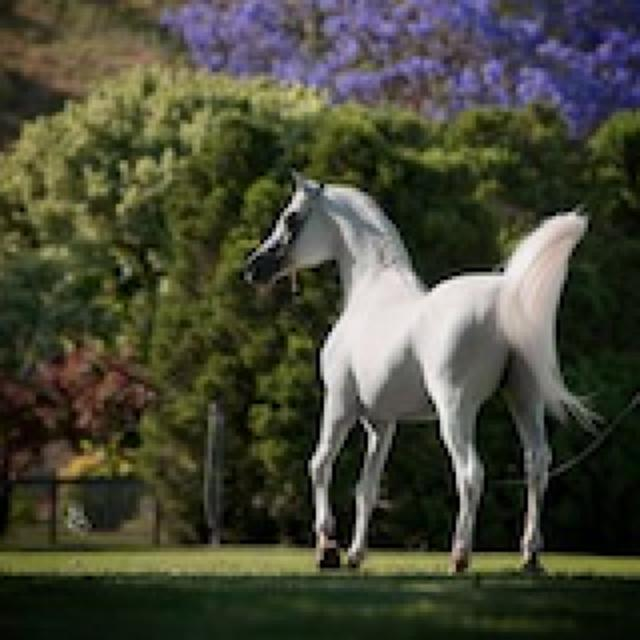Horse: (232, 164, 608, 580)
